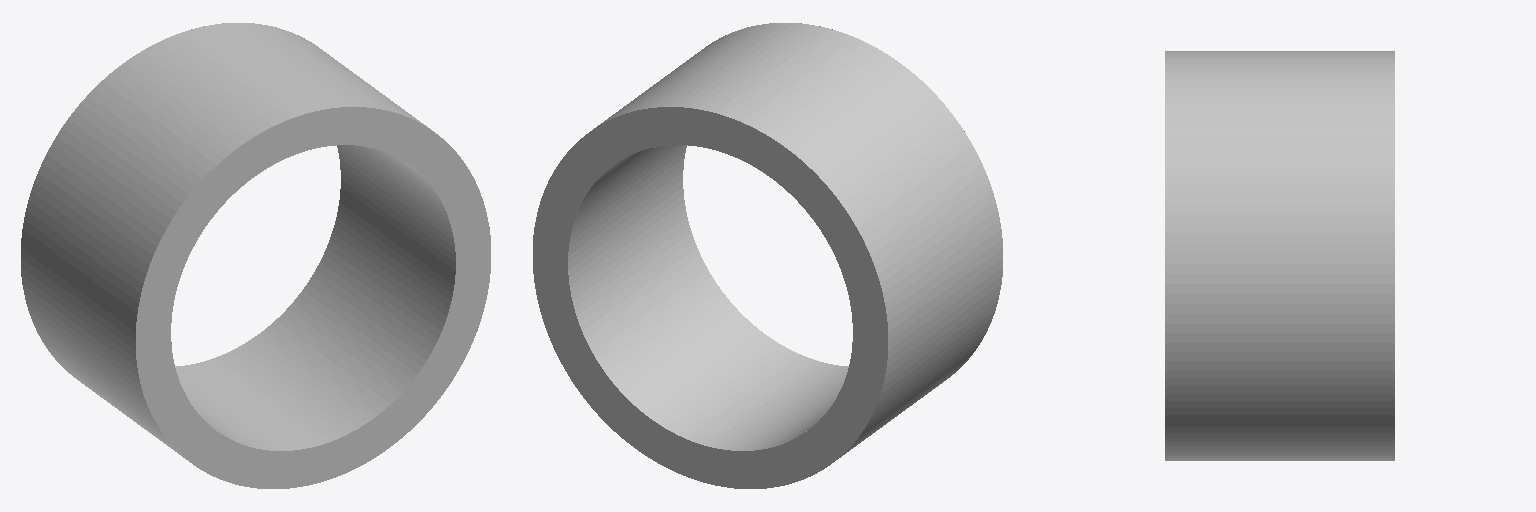
File: Cylinder_with_Hole.obj
The picture shows the model from 3 angles: view 1: azimuth 30°, elevation 25°; view 2: azimuth 150°, elevation 25°; view 3: azimuth 270°, elevation 25°; orthographic projection.
Parts seen in each view (by area): view 1: Cylinder_with_Hole; view 2: Cylinder_with_Hole; view 3: Cylinder_with_Hole.
Boxes of the visible parts, box(x1,y1,x2,y2) form: Cylinder_with_Hole: box(21, 23, 490, 488); Cylinder_with_Hole: box(533, 23, 1002, 488); Cylinder_with_Hole: box(1165, 51, 1394, 460).
Size of the model in its own units: 250 by 250 by 140.